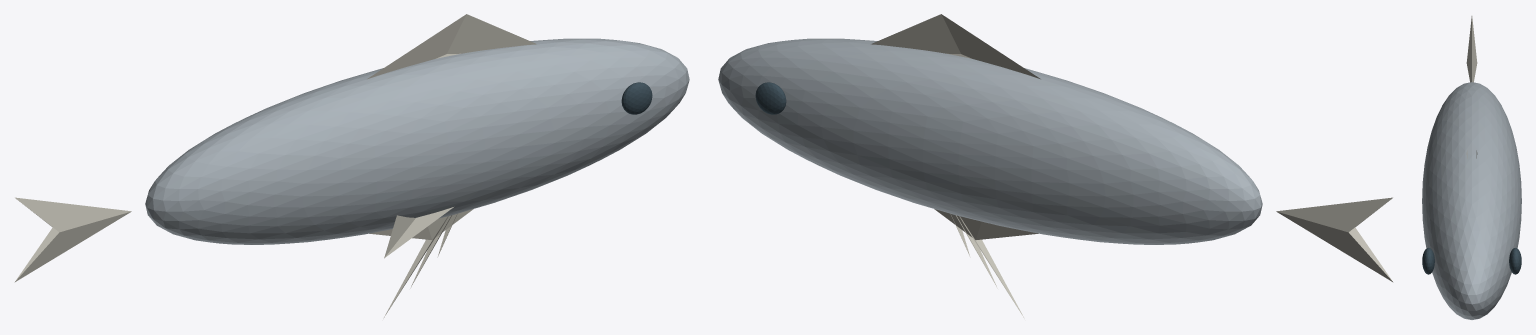
The model's file is Ikan_Kurau.glb.
The picture shows the model from 3 angles, left to right: view 1: azimuth 30°, elevation 25°; view 2: azimuth 150°, elevation 25°; view 3: azimuth 270°, elevation 25°; orthographic projection. The views are drawn at different scales.
Parts seen in each view (by area): view 1: Part_00, Part_01, Part_02, Part_04, Part_05, Part_03; view 2: Part_00, Part_01, Part_02, Part_03, Part_06; view 3: Part_00, Part_01, Part_05, Part_06.
Boxes of the visible parts, <box> form: Part_00: <box>145,38,689,244</box>; Part_01: <box>14,197,131,282</box>; Part_02: <box>367,14,536,79</box>; Part_04: <box>384,207,453,258</box>; Part_05: <box>621,82,652,114</box>; Part_03: <box>369,209,473,239</box>; Part_00: <box>718,38,1262,244</box>; Part_01: <box>1276,197,1393,282</box>; Part_02: <box>871,14,1040,79</box>; Part_03: <box>934,209,1038,239</box>; Part_06: <box>755,82,786,114</box>; Part_00: <box>1422,82,1521,319</box>; Part_01: <box>1466,16,1477,82</box>; Part_05: <box>1422,248,1434,274</box>; Part_06: <box>1509,248,1521,274</box>.
Bounding box in the file's own units: 1.71 × 0.6956 × 0.2812.
